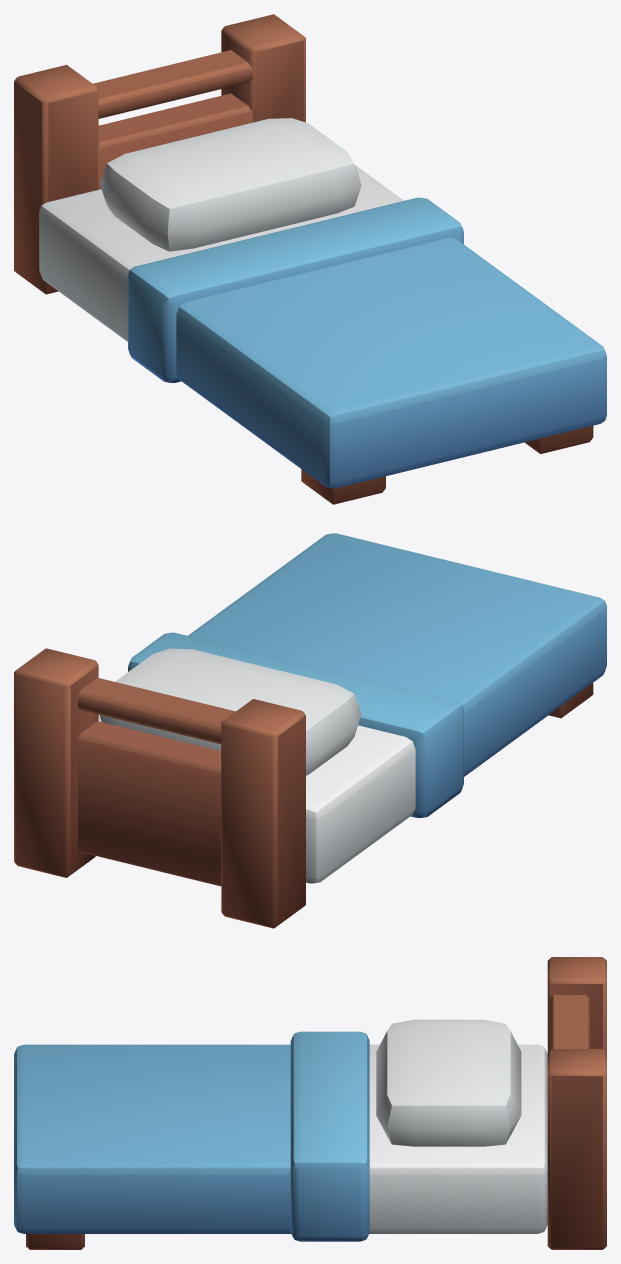
File: bed-single-a.glb
3 renders of one model, top to bottom at view 1: azimuth 30°, elevation 25°; view 2: azimuth 150°, elevation 25°; view 3: azimuth 270°, elevation 25°, orthographic. The views are drawn at different scales.
Parts seen in each view (by area): view 1: bed_single_A; view 2: bed_single_A; view 3: bed_single_A.
Part boxes in pixels (box(x1,y1,x2,y2)): bed_single_A: box(14, 14, 606, 504); bed_single_A: box(14, 533, 606, 928); bed_single_A: box(14, 957, 606, 1249).
Size of the model in its own units: 1.6 by 1 by 3.
